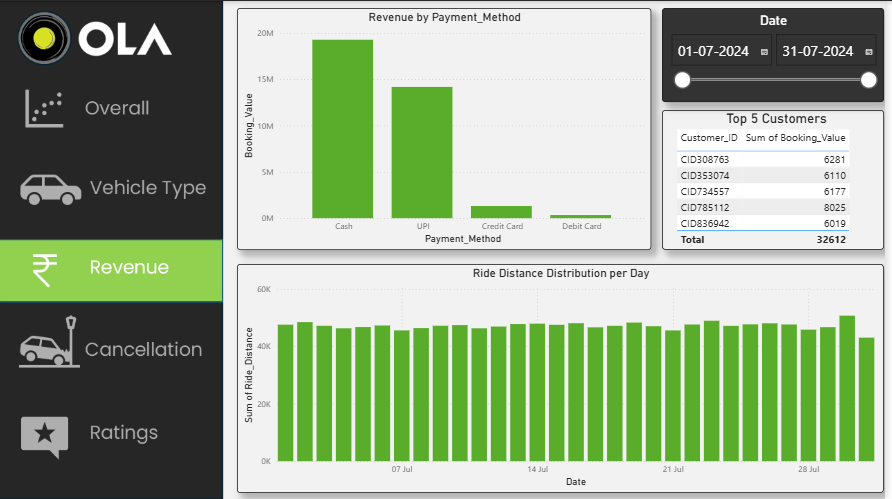

The page's visual inventory and layout, read from the dashboard file:
{"tool":"powerbi","page":{"name":"Revenue","canvas":[1280,720],"ordinal":2},"visuals":[{"type":"actionButton","box":[0,451.1,323.9,95.4],"z":0},{"type":"actionButton","box":[0,576.9,323.9,95.4],"z":1000},{"type":"actionButton","box":[0,225.5,323.9,95.4],"z":2000},{"type":"actionButton","box":[0,109.9,323.9,95.4],"z":3000},{"type":"columnChart","title":"Revenue by Payment_Method","fields":{"Category":["Bookings.Payment_Method"],"Y":["Sum(Bookings.Booking_Value)"]},"box":[344.1,10.1,598.6,349.9],"z":4000},{"type":"columnChart","title":"Ride Distance Distribution per Day","fields":{"Y":["Sum(Bookings.Ride_Distance)"],"Category":["Bookings.Date (bins)"]},"box":[344.1,380.2,935.4,331.1],"z":5000},{"type":"slicer","title":"Date","fields":{"Values":["Bookings.Date"]},"box":[958.6,10.1,321,135.9],"z":6000},{"type":"tableEx","title":"Top 5 Customers","fields":{"Values":["Bookings.Customer_ID","Sum(Bookings.Booking_Value)"]},"box":[959.2,157.9,320.8,201.6],"z":7000}]}

Visuals, with their boxes in screenshot pixels (x1, y1, x2, y2), scaled from the page's 1280x720 canvas onto the 892x499 screenshot:
actionButton: BBox(0, 313, 226, 379)
actionButton: BBox(0, 400, 226, 466)
actionButton: BBox(0, 156, 226, 222)
actionButton: BBox(0, 76, 226, 142)
"Revenue by Payment_Method" columnChart: BBox(240, 7, 657, 250)
"Ride Distance Distribution per Day" columnChart: BBox(240, 263, 891, 493)
"Date" slicer: BBox(668, 7, 891, 101)
"Top 5 Customers" tableEx: BBox(668, 109, 891, 249)
